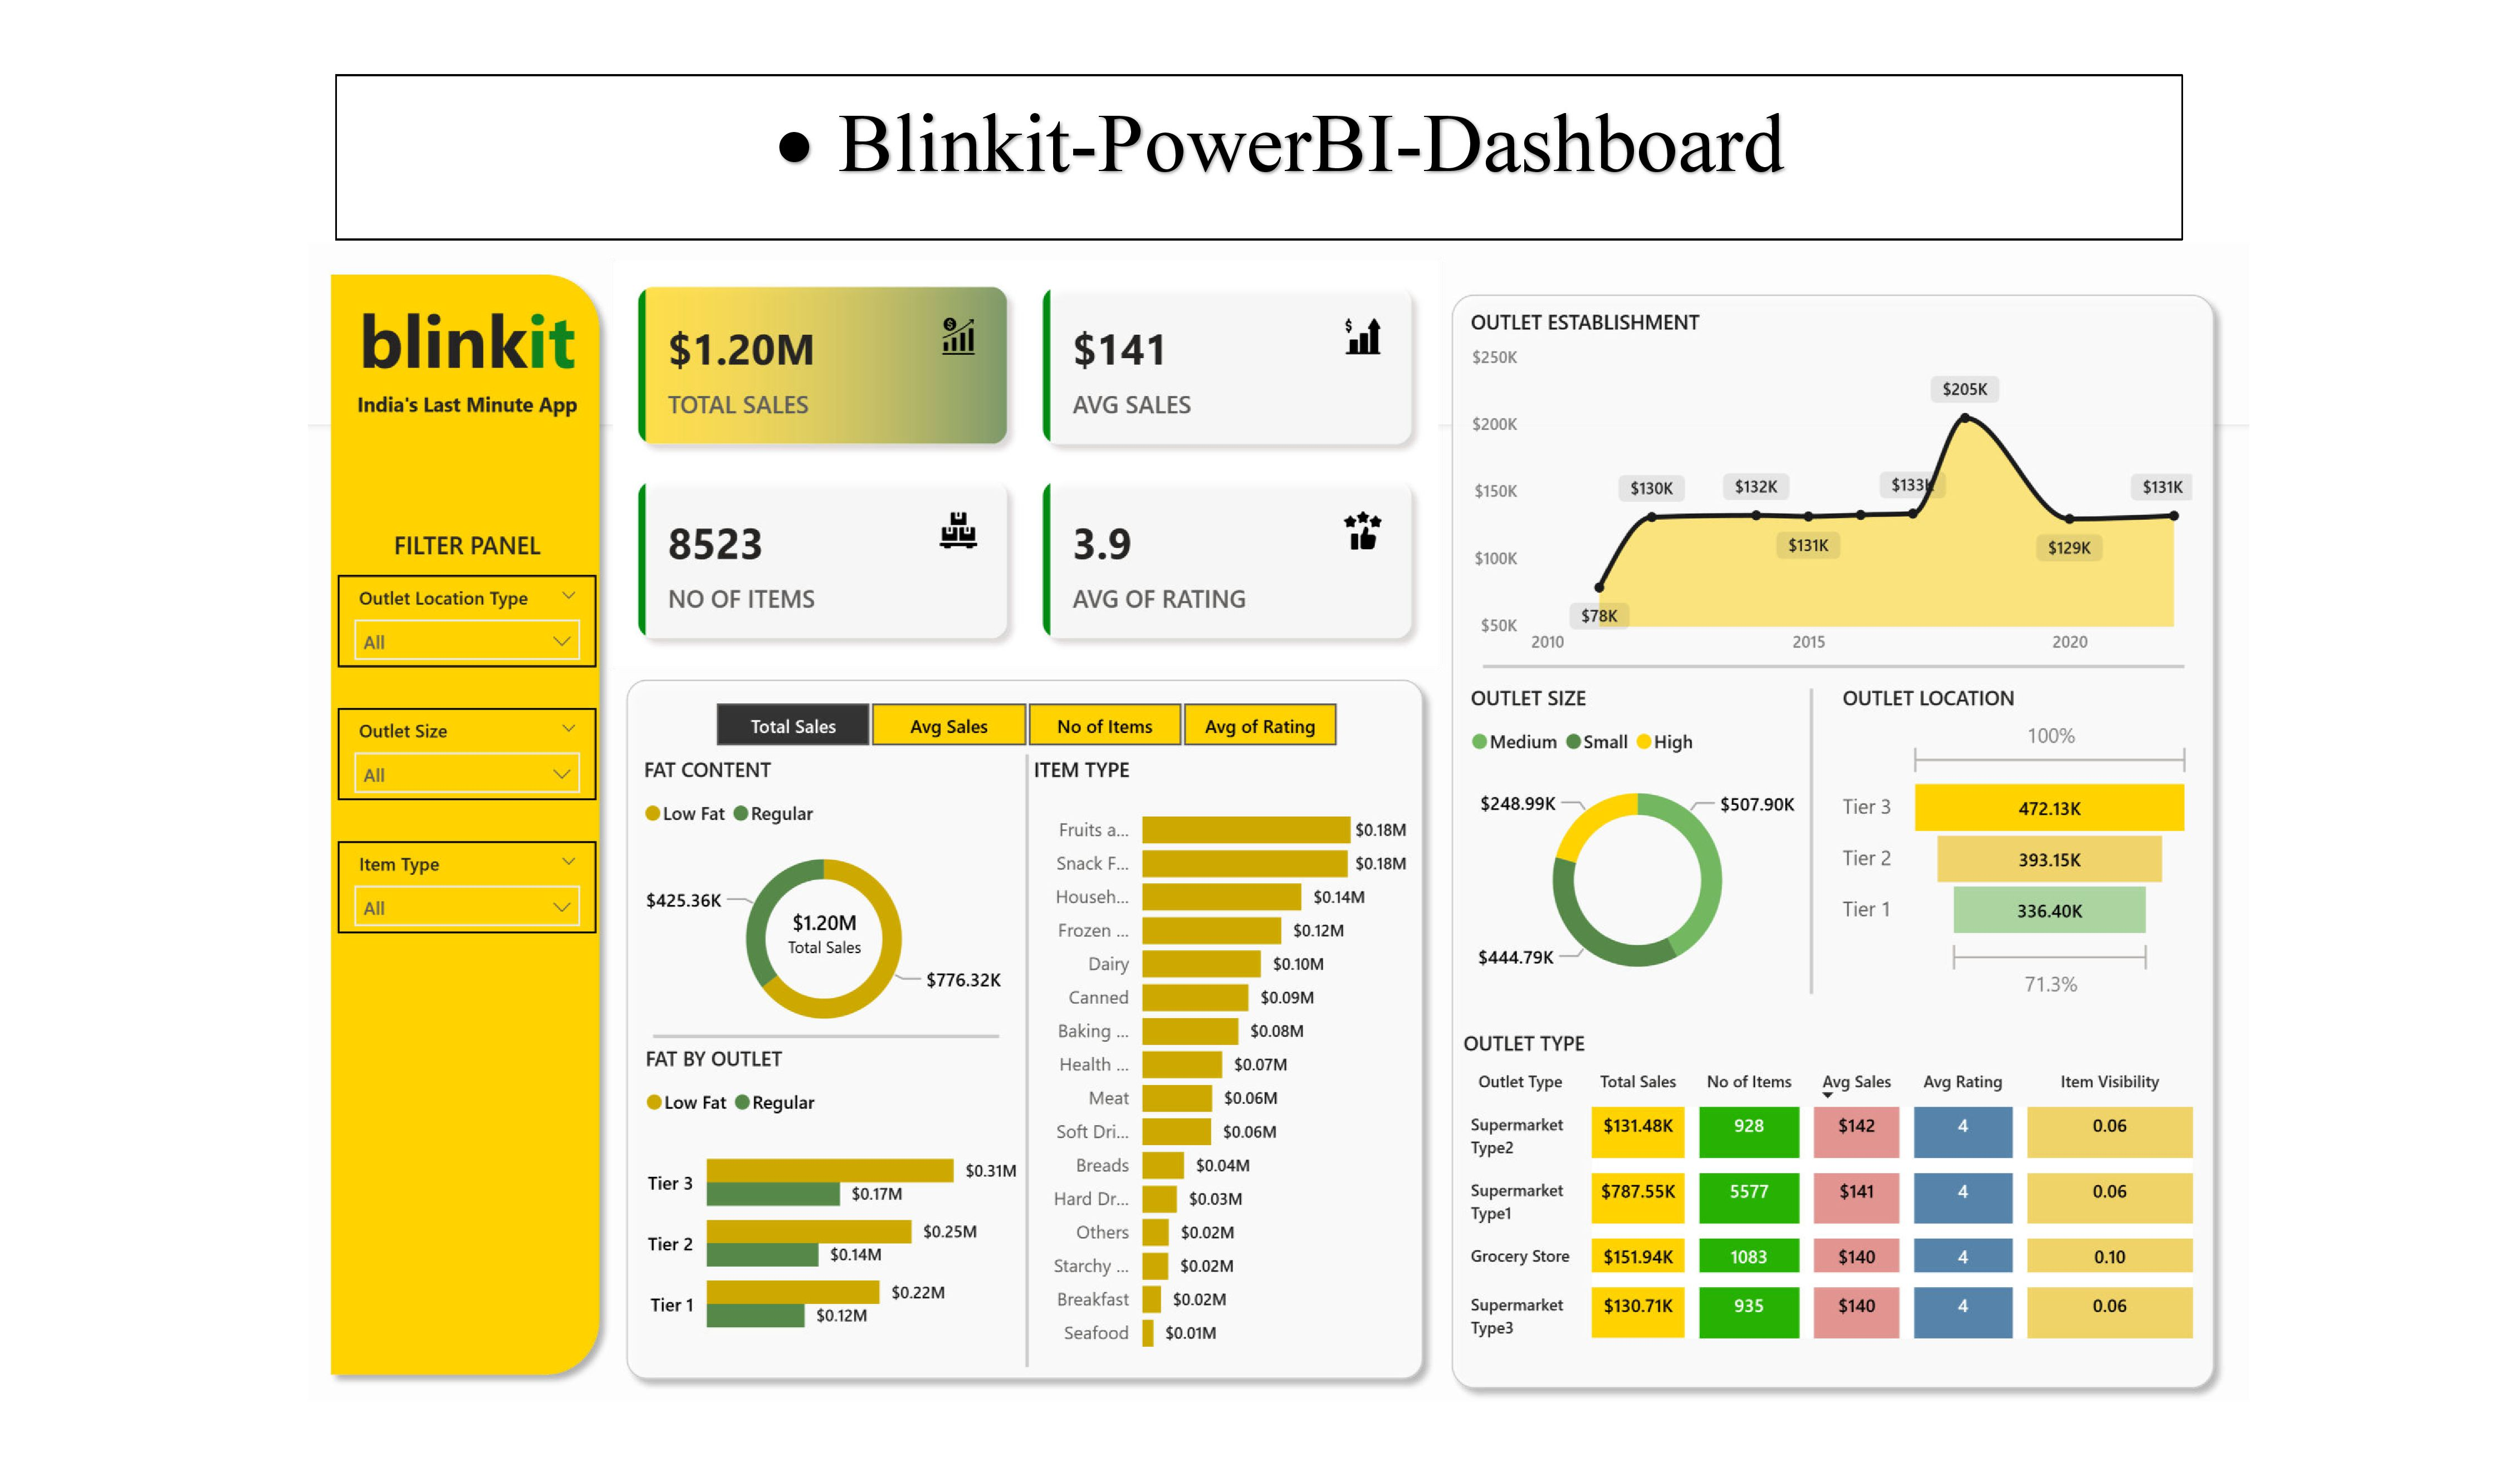

Layout of this report page (visuals, bound fields, positions):
{"tool":"powerbi","page":{"name":"Page 1","canvas":[1400,800],"ordinal":0},"visuals":[{"type":"shape","box":[35.7,52.9,198.6,738.6],"z":0},{"type":"textbox","box":[55.7,65.7,161.4,84.3],"z":1000},{"type":"textbox","box":[37.1,132.9,198.6,52.9],"z":2000},{"type":"cardVisual","fields":{"Data":["BlinkIT Grocery Data.Total Sales","BlinkIT Grocery Data.Avg Sales","BlinkIT Grocery Data.No of Items","BlinkIT Grocery Data.Avg of Rating"]},"box":[234.3,52.9,552.9,265.7],"z":3000},{"type":"shape","box":[234.1,318.2,552.3,475.8],"z":4000},{"type":"donutChart","title":"FAT CONTENT ","fields":{"Y":["BlinkIT Grocery Data.Total Sales"],"Category":["BlinkIT Grocery Data.Item Fat Content"]},"box":[250,377.1,251.4,192.9],"z":5000},{"type":"slicer","fields":{"Values":["Metrics.Metrics"]},"box":[277.7,336.2,465.3,40.5],"z":6000},{"type":"cardVisual","fields":{"Data":["BlinkIT Grocery Data.Total Sales"]},"box":[334.3,450,84.3,85.7],"z":7000},{"type":"clusteredBarChart","title":"FAT BY OUTLET","fields":{"Y":["BlinkIT Grocery Data.Total Sales"],"Category":["BlinkIT Grocery Data.Outlet Location Type"],"Series":["BlinkIT Grocery Data.Item Fat Content"]},"box":[251.4,565.7,260,207.1],"z":8000},{"type":"shape","box":[261.4,544.3,231.4,32.9],"z":9000},{"type":"shape","box":[432.9,375.7,157.1,401.4],"z":10000},{"type":"barChart","title":"ITEM TYPE ","fields":{"Y":["BlinkIT Grocery Data.Total Sales"],"Category":["BlinkIT Grocery Data.Item Type"]},"box":[511.4,377.1,260,400],"z":11000},{"type":"shape","box":[787.1,65.7,528.6,734.3],"z":12000},{"type":"lineChart","title":"OUTLET ESTABLISHMENT","fields":{"Y":["BlinkIT Grocery Data.Total Sales"],"Category":["BlinkIT Grocery Data.Outlet Establishment Year"]},"box":[804.3,84.3,492.9,234.3],"z":13000},{"type":"shape","box":[817.1,130,470,377.1],"z":14000},{"type":"donutChart","title":"OUTLET SIZE","fields":{"Y":["BlinkIT Grocery Data.Total Sales"],"Category":["BlinkIT Grocery Data.Outlet Size"]},"box":[804.3,330,232.9,210],"z":15000},{"type":"shape","box":[971.4,332.9,131.4,200],"z":16000},{"type":"funnel","title":"OUTLET LOCATION ","fields":{"Y":["Sum(BlinkIT Grocery Data.Sales)"],"Category":["BlinkIT Grocery Data.Outlet Location Type"]},"box":[1052.9,330,244.3,210],"z":17000},{"type":"pivotTable","title":"OUTLET TYPE","fields":{"Rows":["BlinkIT Grocery Data.Outlet Type"],"Values":["BlinkIT Grocery Data.Total Sales","BlinkIT Grocery Data.No of Items","BlinkIT Grocery Data.Avg Sales","BlinkIT Grocery Data.Avg of Rating","Avg(BlinkIT Grocery Data.Item Visibility)"]},"box":[804.3,555.7,510,217.1],"z":18000},{"type":"slicer","fields":{"Values":["BlinkIT Grocery Data.Outlet Location Type"]},"box":[50,258.6,172.9,60],"z":19000},{"type":"slicer","fields":{"Values":["BlinkIT Grocery Data.Outlet Size"]},"box":[50,345.7,172.9,60],"z":20000},{"type":"slicer","fields":{"Values":["BlinkIT Grocery Data.Item Type"]},"box":[50,432.9,172.9,60],"z":21000},{"type":"textbox","box":[38.6,222.9,195.7,35.7],"z":21001}]}

Visuals, with their boxes on the page's 1400x800 design canvas (x1, y1, x2, y2). These are canvas units, not pixel positions in the 2520x1476 screenshot, which may show the page scaled, cropped or inside an application window:
shape: {"left": 36, "top": 53, "right": 234, "bottom": 792}
textbox: {"left": 56, "top": 66, "right": 217, "bottom": 150}
textbox: {"left": 37, "top": 133, "right": 236, "bottom": 186}
cardVisual - BlinkIT Grocery Data.Total Sales x BlinkIT Grocery Data.Avg Sales: {"left": 234, "top": 53, "right": 787, "bottom": 319}
shape: {"left": 234, "top": 318, "right": 786, "bottom": 794}
"FAT CONTENT " donutChart: {"left": 250, "top": 377, "right": 501, "bottom": 570}
slicer - Metrics.Metrics: {"left": 278, "top": 336, "right": 743, "bottom": 377}
cardVisual - BlinkIT Grocery Data.Total Sales: {"left": 334, "top": 450, "right": 419, "bottom": 536}
"FAT BY OUTLET" clusteredBarChart: {"left": 251, "top": 566, "right": 511, "bottom": 773}
shape: {"left": 261, "top": 544, "right": 493, "bottom": 577}
shape: {"left": 433, "top": 376, "right": 590, "bottom": 777}
"ITEM TYPE " barChart: {"left": 511, "top": 377, "right": 771, "bottom": 777}
shape: {"left": 787, "top": 66, "right": 1316, "bottom": 800}
"OUTLET ESTABLISHMENT" lineChart: {"left": 804, "top": 84, "right": 1297, "bottom": 319}
shape: {"left": 817, "top": 130, "right": 1287, "bottom": 507}
"OUTLET SIZE" donutChart: {"left": 804, "top": 330, "right": 1037, "bottom": 540}
shape: {"left": 971, "top": 333, "right": 1103, "bottom": 533}
"OUTLET LOCATION " funnel: {"left": 1053, "top": 330, "right": 1297, "bottom": 540}
"OUTLET TYPE" pivotTable: {"left": 804, "top": 556, "right": 1314, "bottom": 773}
slicer - BlinkIT Grocery Data.Outlet Location Type: {"left": 50, "top": 259, "right": 223, "bottom": 319}
slicer - BlinkIT Grocery Data.Outlet Size: {"left": 50, "top": 346, "right": 223, "bottom": 406}
slicer - BlinkIT Grocery Data.Item Type: {"left": 50, "top": 433, "right": 223, "bottom": 493}
textbox: {"left": 39, "top": 223, "right": 234, "bottom": 259}
